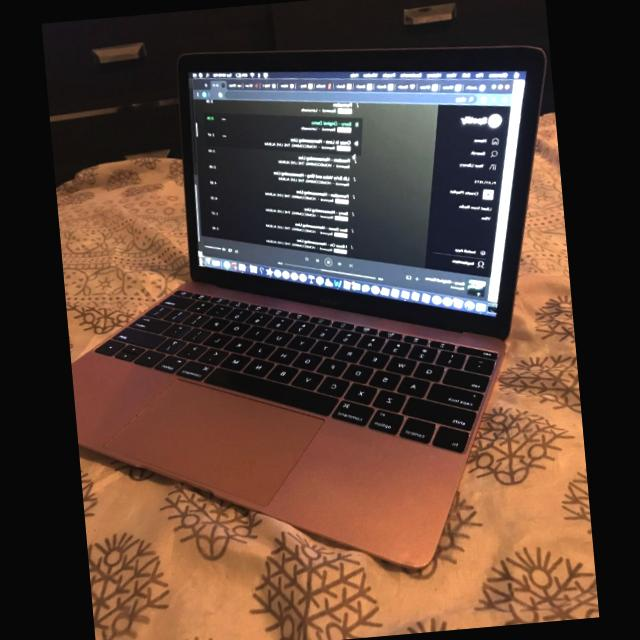laptop: (72, 46, 543, 566)
